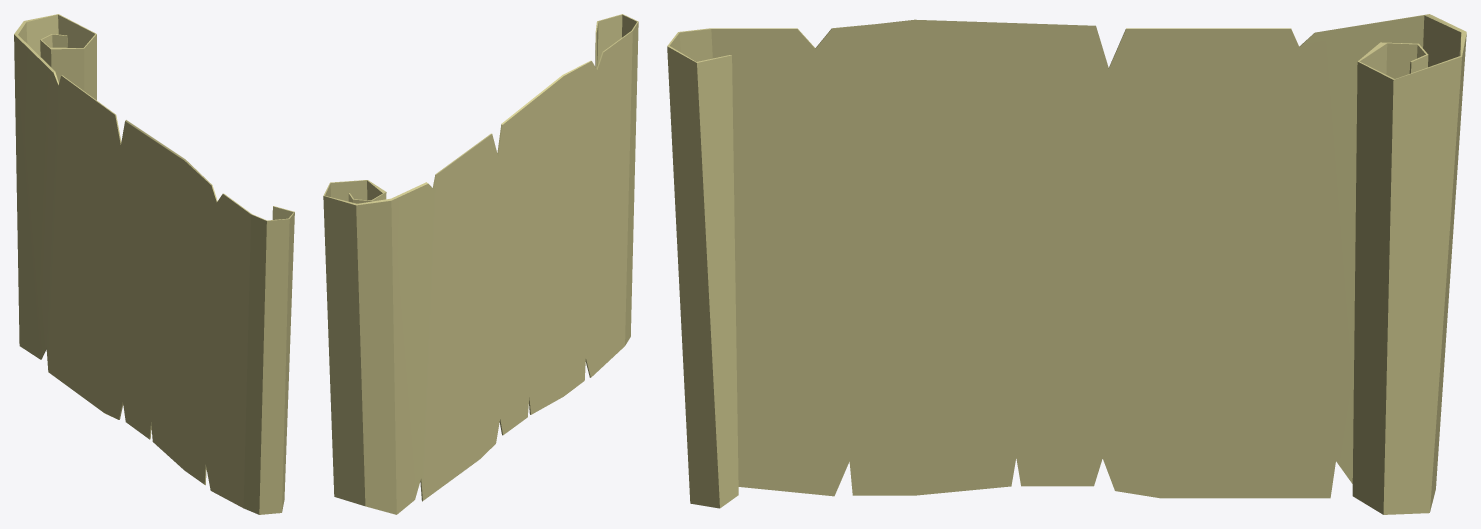
The model's file is etiketka.fbx.
3 renders of one model, left to right at view 1: azimuth 30°, elevation 25°; view 2: azimuth 150°, elevation 25°; view 3: azimuth 270°, elevation 25°, orthographic. The views are drawn at different scales.
Visible parts, largest first — view 1: etiketka; view 2: etiketka; view 3: etiketka.
Part boxes in pixels (<box>): etiketka: <box>14,14,294,514</box>; etiketka: <box>323,14,638,514</box>; etiketka: <box>667,14,1466,514</box>.
Size of the model in its own units: 9.07 by 38.45 by 57.75.
